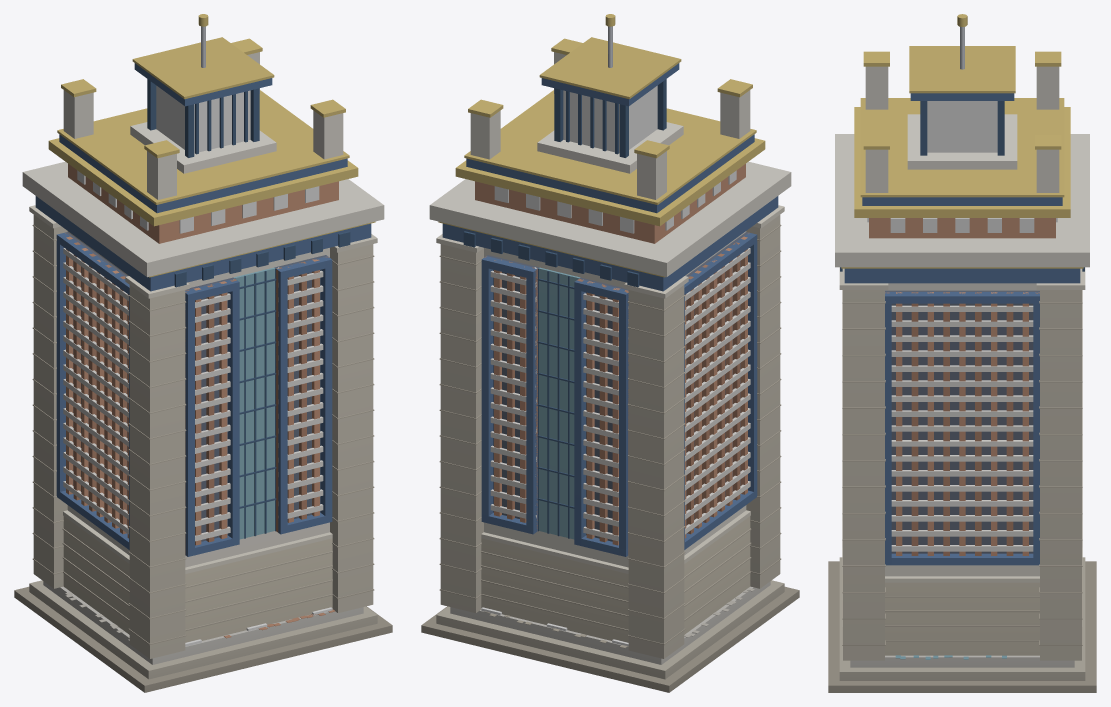
File: gate_tower.glb
3 renders of one model, left to right at view 1: azimuth 30°, elevation 25°; view 2: azimuth 150°, elevation 25°; view 3: azimuth 270°, elevation 25°, orthographic. The views are drawn at different scales.
Parts seen in each view (by area): view 1: gate_tower; view 2: gate_tower; view 3: gate_tower.
Part boxes in pixels (x1,y1,x2,y2): gate_tower: (14,14,392,692); gate_tower: (421,14,799,692); gate_tower: (828,14,1096,692).
Size of the model in its own units: 12.28 by 28.35 by 11.2.
